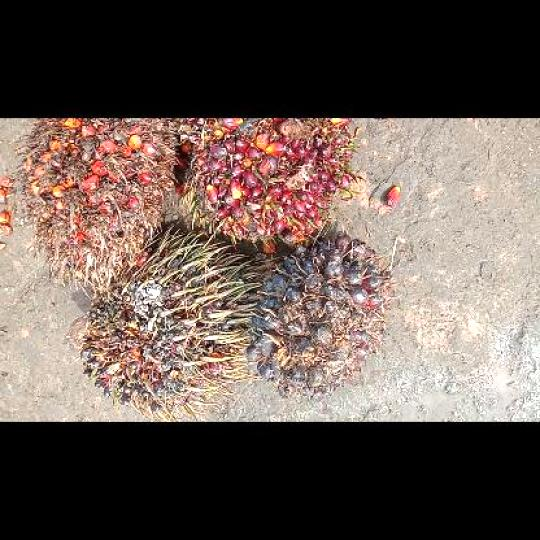masak: (186, 118, 356, 238)
terlalu masak: (19, 118, 178, 296)
